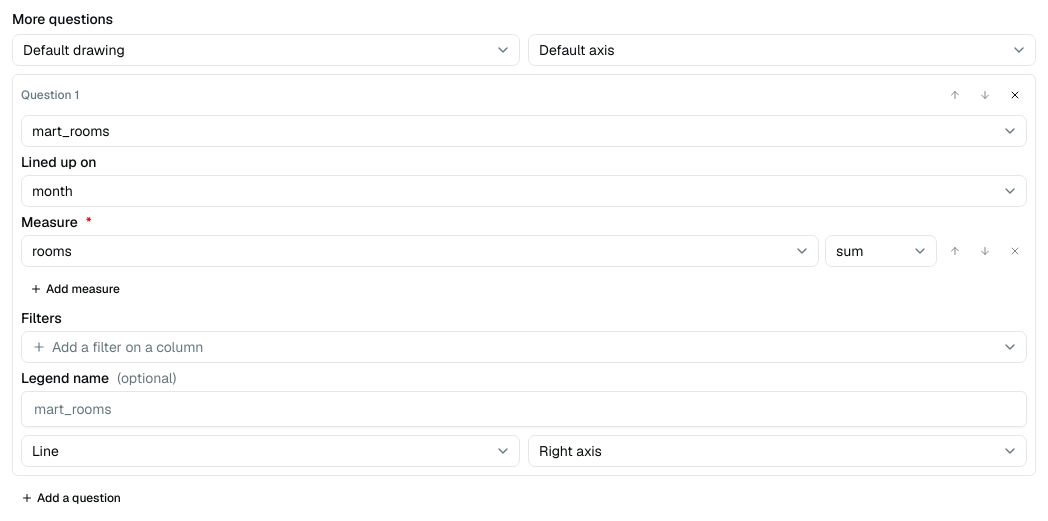
Scenario: LayersSection › lists a timestamp too once the chart is cut by a time grain
This screenshot has width=1048, height=521.
Click the dropdown named "Question 1 dimension".
click(52, 191)  # box [21,175,1027,207]
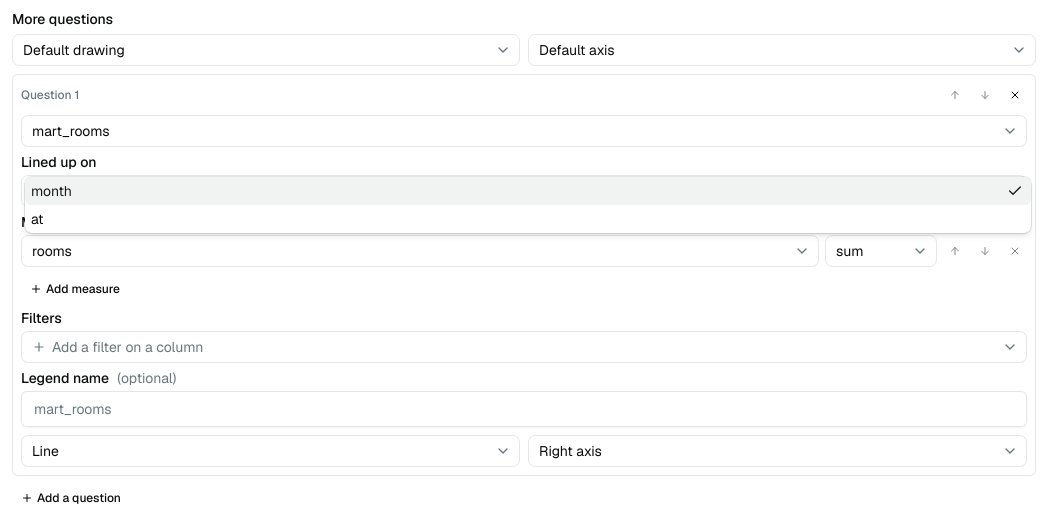
Expected: the options read "month", "at", in this order, [25,177,1031,205]; [31,210,44,228]
